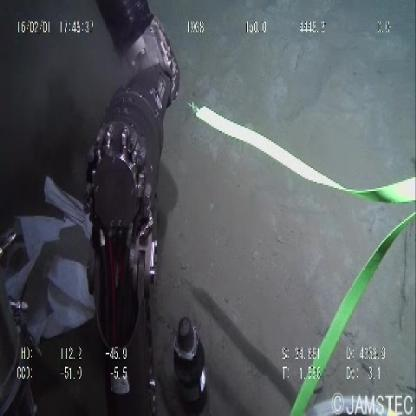Rov: (86, 1, 210, 413)
Rác: (5, 170, 99, 352)
